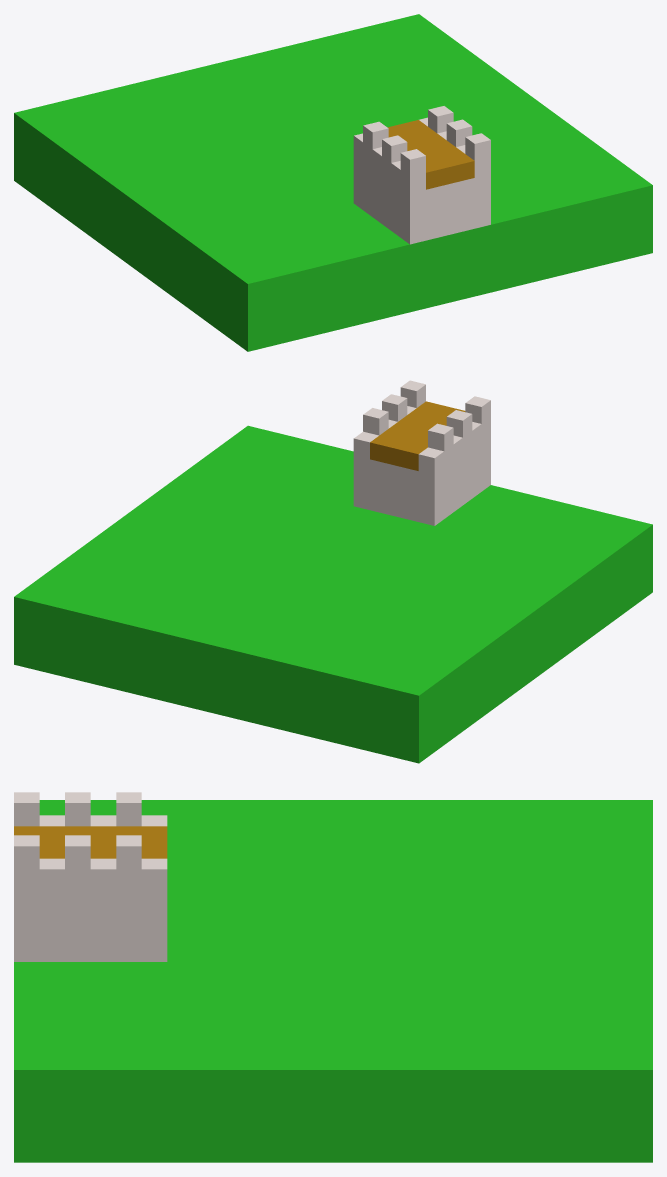
File: wall-ad-glass.obj
3 views of the same model, one above another, from view 1: azimuth 30°, elevation 25°; view 2: azimuth 150°, elevation 25°; view 3: azimuth 270°, elevation 25° (orthographic). The views are drawn at different scales.
Bounding box in the file's own units: 2.5 × 0.9 × 2.5.
Materials: 1 (1 with a texture image).
